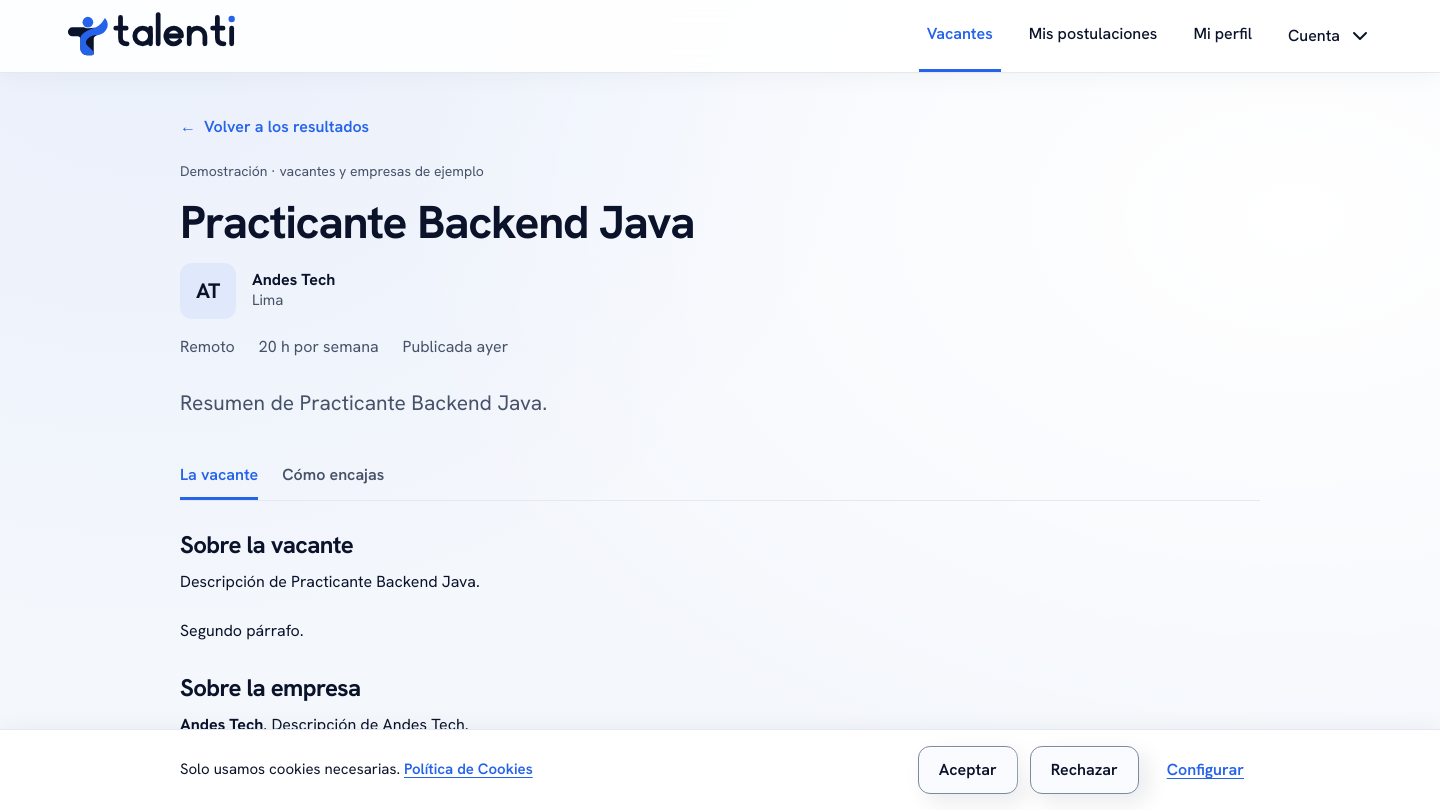
Panel "Tu compatibilidad" in the detail (007-18 to 007-21) › 007-20: "Cómo se calcula" is a keyboard-operable disclosure that reads the weights from the response
What coordinates should you click on to do the following:
click the button "Cómo encajas"
I would click on:
 (333, 476)
Its box is x1=282 y1=452 x2=384 y2=500.
(page scrolled)
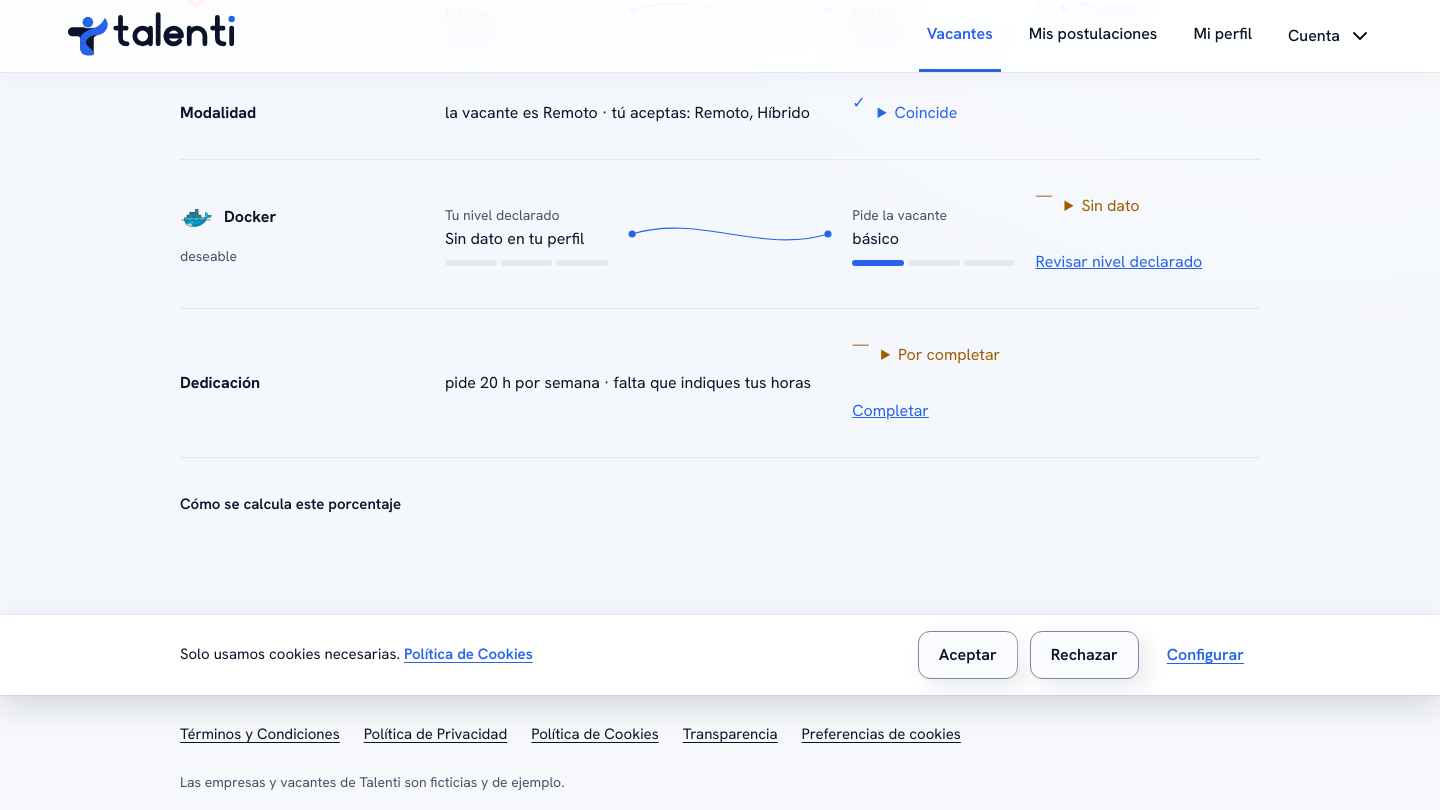
What coordinates should you click on to do the following:
click the heading "Cómo se calcula este porcentaje"
I would click on:
 (290, 504)
Its box is x1=180 y1=494 x2=401 y2=514.
(page scrolled)
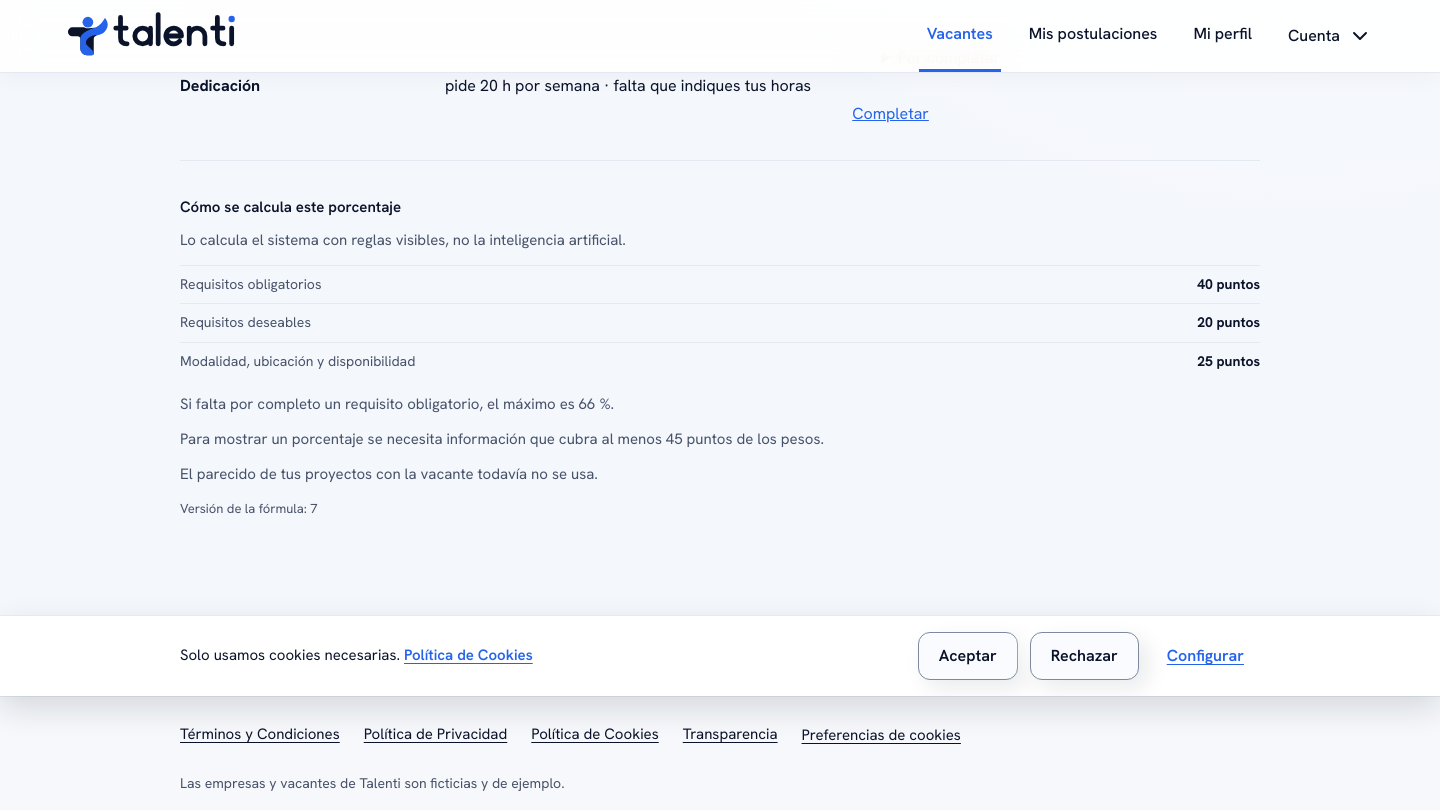
Check: the text "Lo calcula el sistema con reglas visibles, no la inteligencia artificial." is shown, box x1=180 y1=230 x2=626 y2=250
Check: the text "El parecido de tus proyectos con la vacante todavía no se usa." is shown, box x1=180 y1=464 x2=598 y2=484
